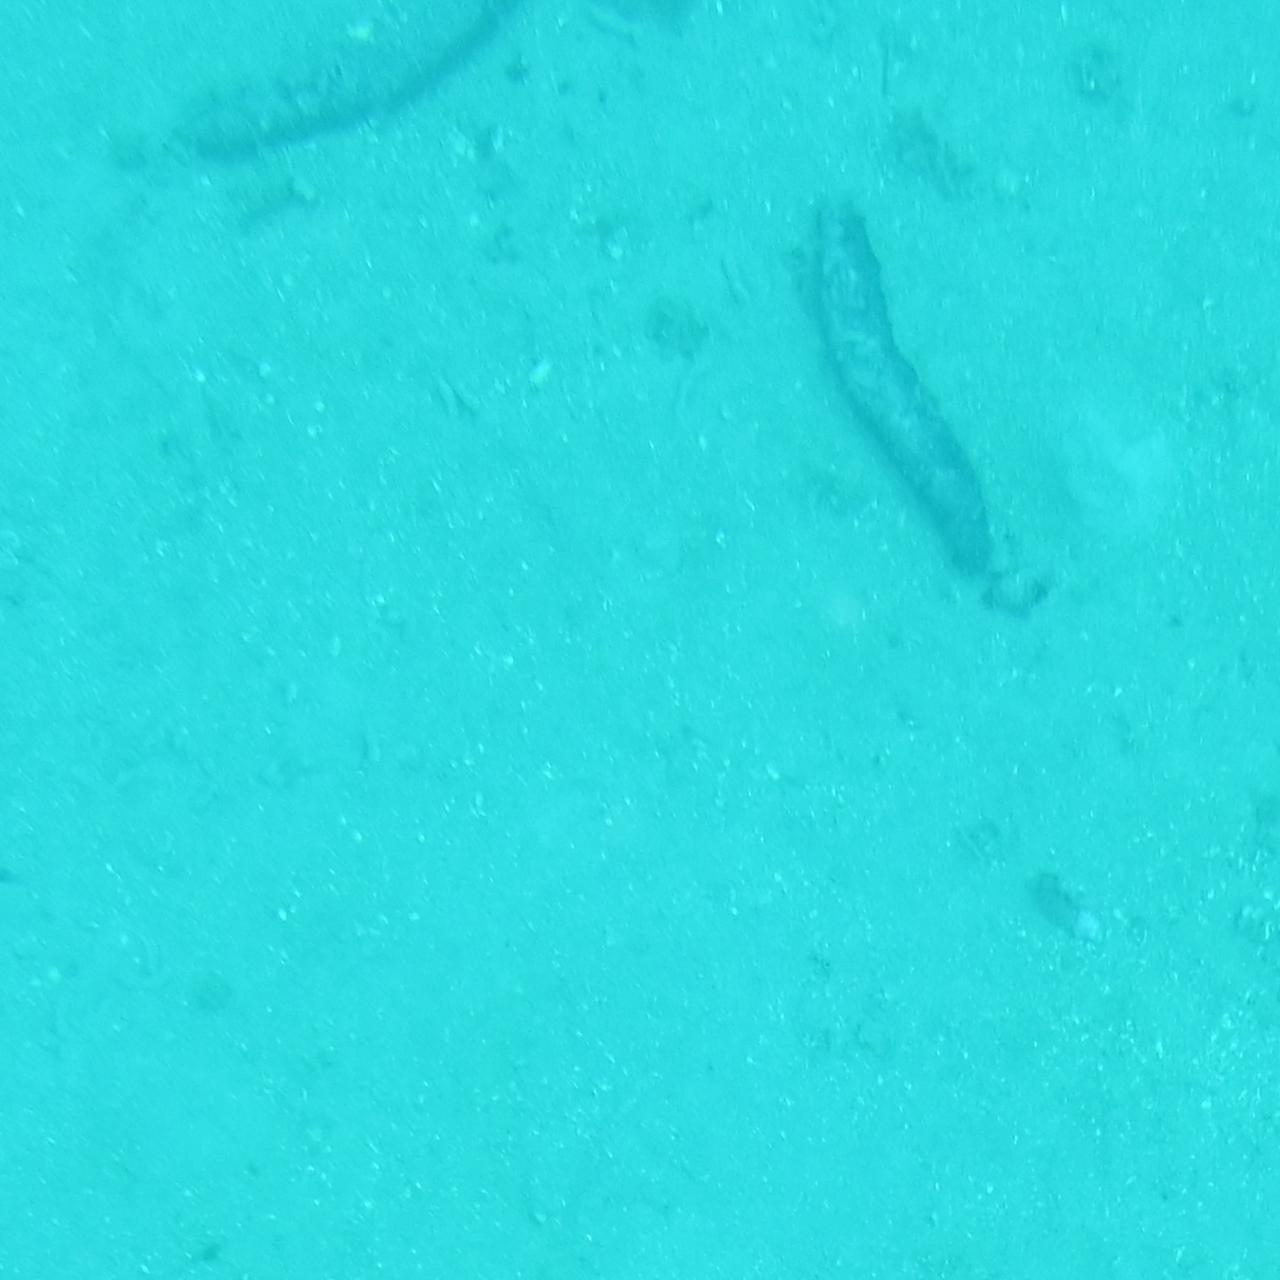Holothuria tubulosa: (801, 195, 1051, 621), (185, 1, 525, 181)
